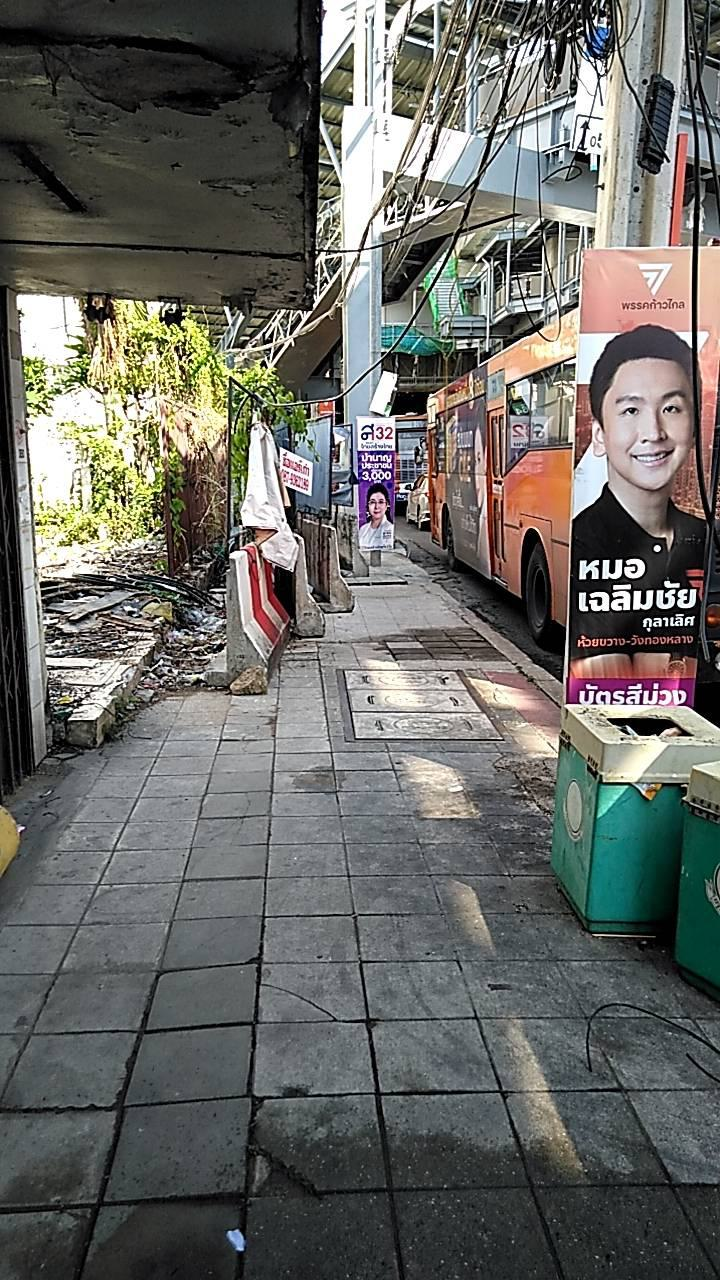Banner: (563, 237, 720, 722)
